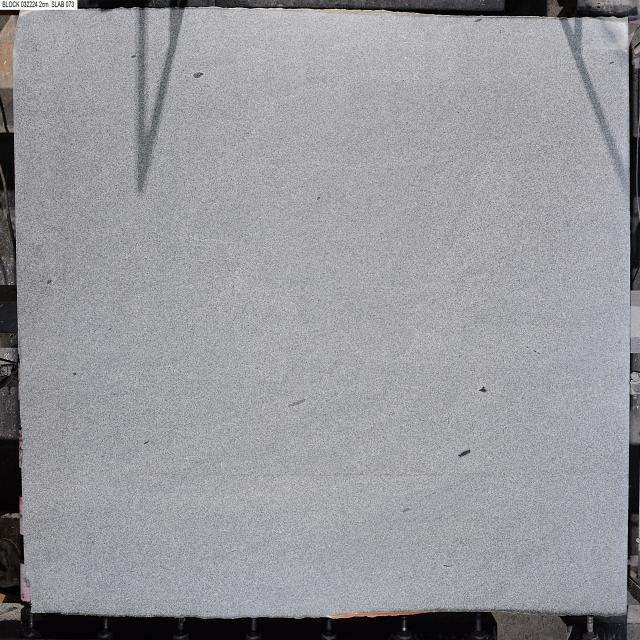chapa: (15, 8, 630, 617)
